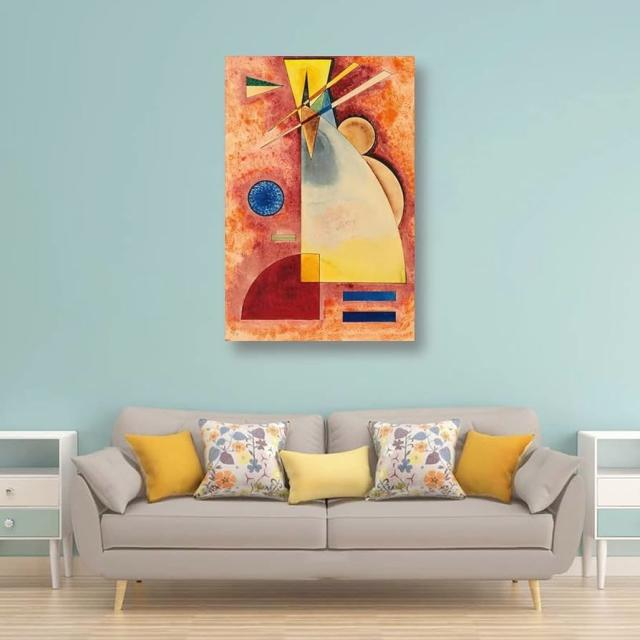painting: (224, 54, 415, 341)
